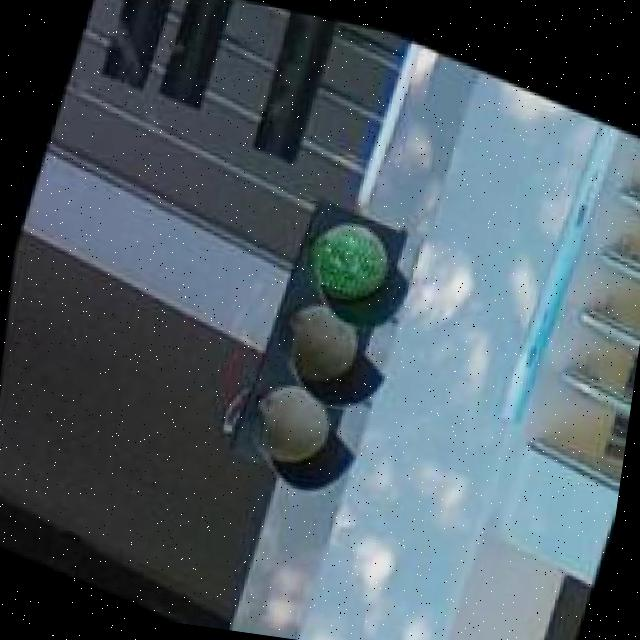green_light: (218, 184, 430, 506)
